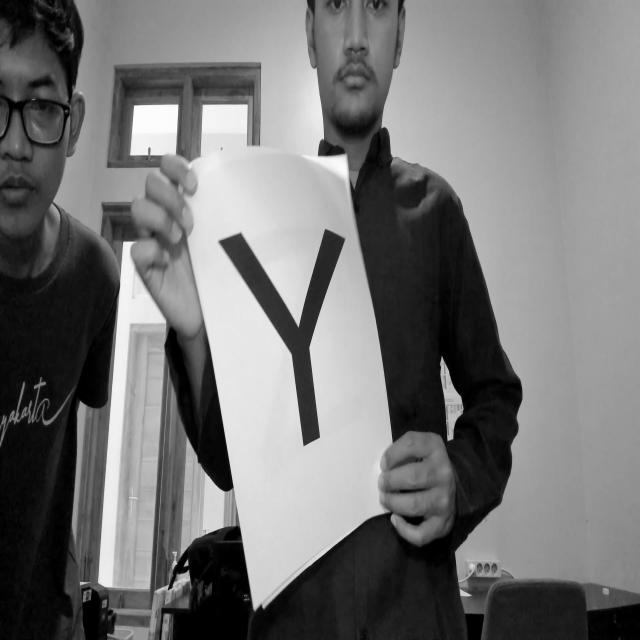y: (208, 193, 379, 480)
